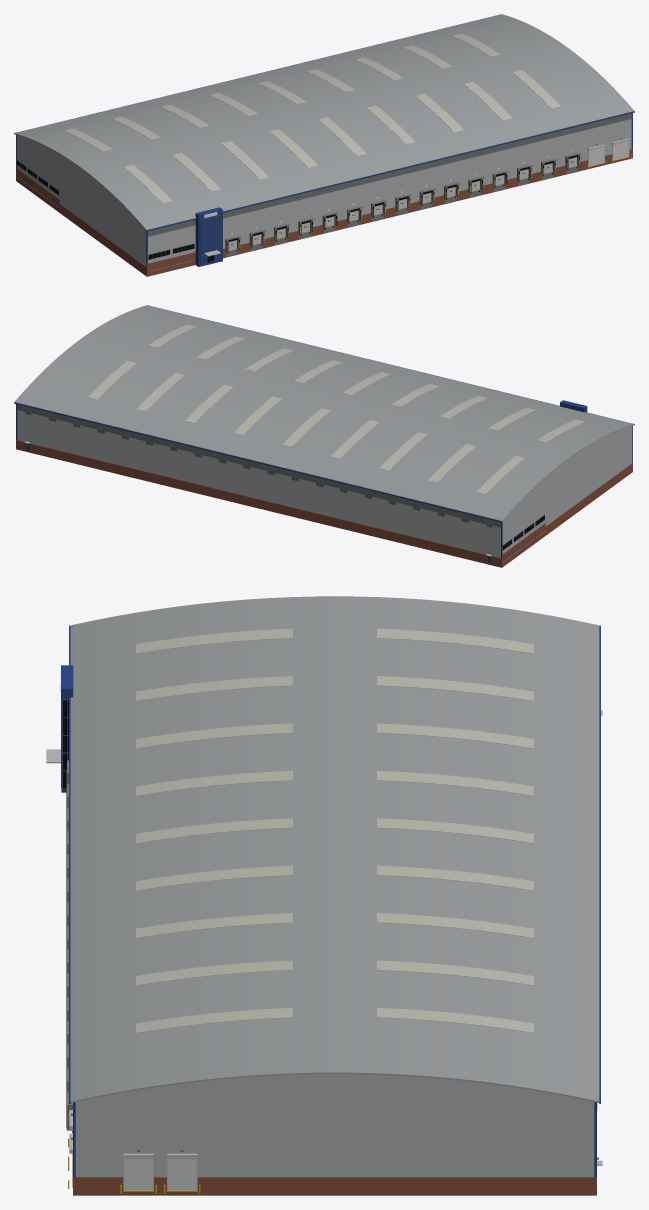
The model's file is context.industrial.big_box.glb.
3 views of the same model, one above another, from view 1: azimuth 30°, elevation 25°; view 2: azimuth 150°, elevation 25°; view 3: azimuth 270°, elevation 25° (orthographic). The views are drawn at different scales.
Visible parts, largest first — view 1: main__clad_999, main__clad_aab, main__lens_bbb, main__brick_854, main__clad_777, main__steel_777, main__steel_248, main__clad_248, main__paint_ccc, main__concrete_777, main__paint_555, main__rubber (+3 smaller); view 2: main__clad_999, main__clad_aab, main__lens_bbb, main__brick_854, main__clad_777, main__steel_248, main__paint_666; view 3: main__clad_999, main__clad_aab, main__lens_bbb, main__brick_854, main__steel_248, main__galv_ccc, main__steel_bbb.
Part boxes in pixels (x1,y1,x2,y2): main__clad_999: (14, 14, 634, 230); main__clad_aab: (16, 119, 631, 266); main__lens_bbb: (63, 33, 560, 203); main__brick_854: (16, 149, 632, 276); main__clad_777: (148, 113, 631, 236); main__steel_777: (225, 152, 580, 252); main__steel_248: (14, 14, 634, 267); main__clad_248: (195, 207, 222, 266); main__paint_ccc: (228, 157, 576, 250); main__concrete_777: (226, 166, 577, 257); main__paint_555: (16, 119, 621, 271); main__rubber: (227, 155, 579, 253); main__clad_999: (14, 305, 634, 521); main__clad_aab: (17, 410, 632, 558); main__lens_bbb: (88, 324, 585, 494); main__brick_854: (16, 440, 632, 567); main__clad_777: (17, 404, 500, 527); main__steel_248: (14, 305, 634, 558); main__paint_666: (25, 411, 492, 527); main__clad_999: (70, 596, 599, 1102); main__clad_aab: (75, 1074, 594, 1177); main__lens_bbb: (136, 628, 533, 1033); main__brick_854: (73, 1177, 596, 1195); main__steel_248: (69, 625, 600, 1177); main__galv_ccc: (124, 1159, 196, 1190); main__steel_bbb: (46, 710, 602, 1191).
Size of the model in its own units: 151 by 18.3 by 74.4.
